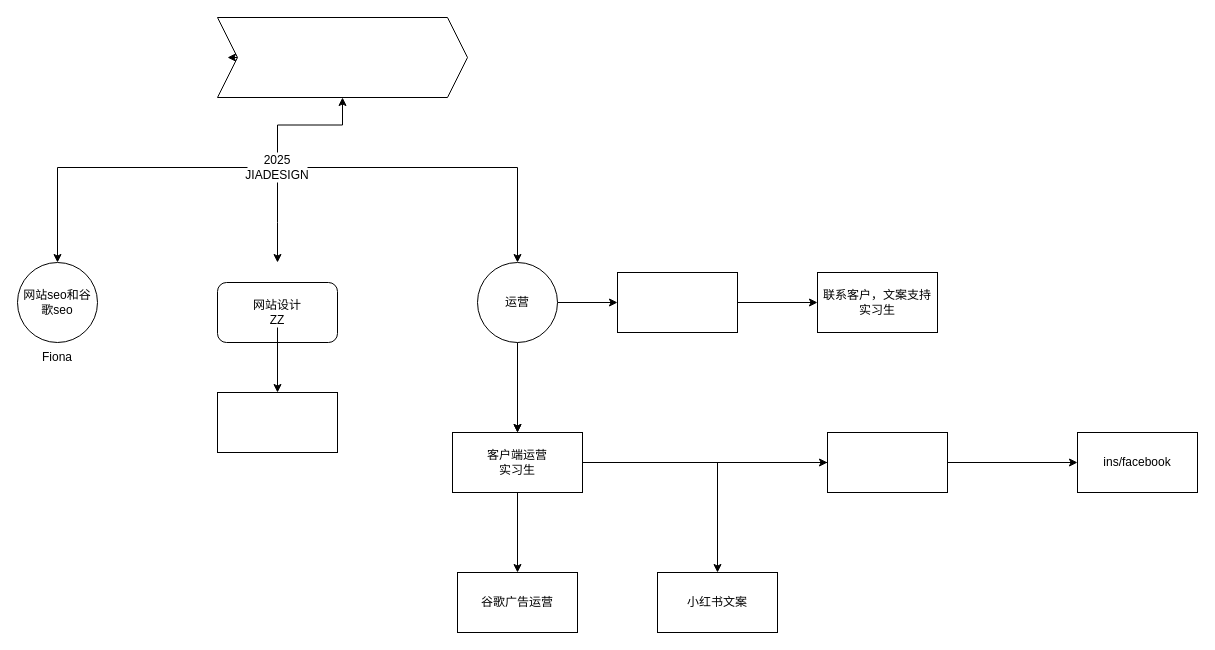
This 1215x650 diagram has some shape labels left out. Each missing label, with the centre of its shape:
"公司推广/找客户/签合约/解决纠纷" belongs at point 342,57.
"公司运营 ZZ" belongs at point 677,302.
"多媒体账户建立 和发文" belongs at point 887,462.
"网站开发 Yang" belongs at point 277,422.
